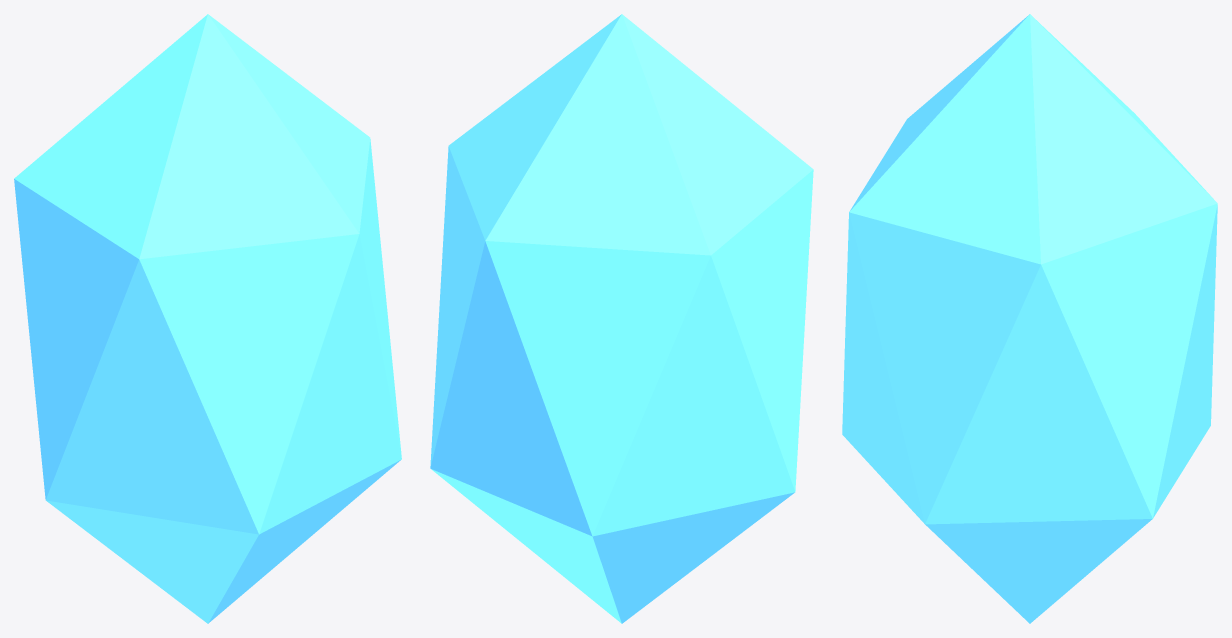
The model's file is xai_build_beacon_crystal.fbx.
The picture shows the model from 3 angles, left to right: view 1: azimuth 30°, elevation 25°; view 2: azimuth 150°, elevation 25°; view 3: azimuth 270°, elevation 25°; orthographic projection.
Visible parts, largest first — view 1: xai_build_beacon_crystal; view 2: xai_build_beacon_crystal; view 3: xai_build_beacon_crystal.
Boxes of the visible parts, x1,y1,x2,y2 form: xai_build_beacon_crystal: [14, 14, 401, 623]; xai_build_beacon_crystal: [430, 14, 813, 623]; xai_build_beacon_crystal: [842, 14, 1217, 623].
Size of the model in its own units: 0.3572 by 0.62 by 0.346.
